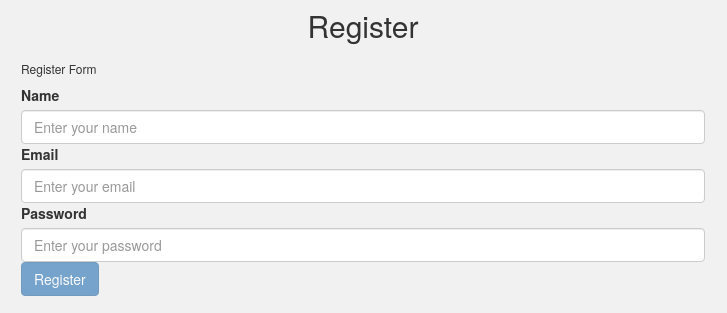
Scenario: enables button when all fields are are entered
The image size is (727, 313).
expect the button "Register" is disabled: met, box top-left (21, 262), bottom-right (99, 296)
Step 1. Type "Prasil Parmar" into the field labelled "Name" → (363, 127), box top-left (21, 110), bottom-right (705, 144)
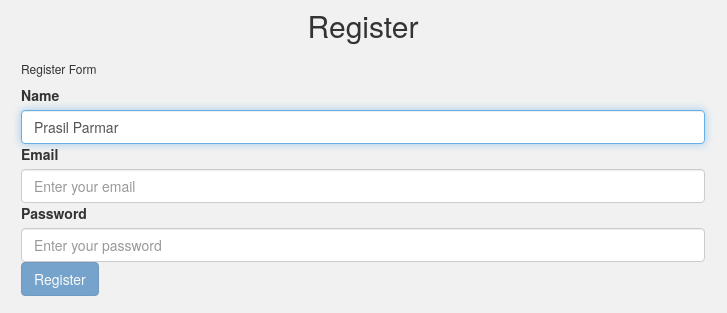
Step 2. Type "prashil117@gmail.com" into the field labelled "Email" → (363, 186), box top-left (21, 169), bottom-right (705, 203)
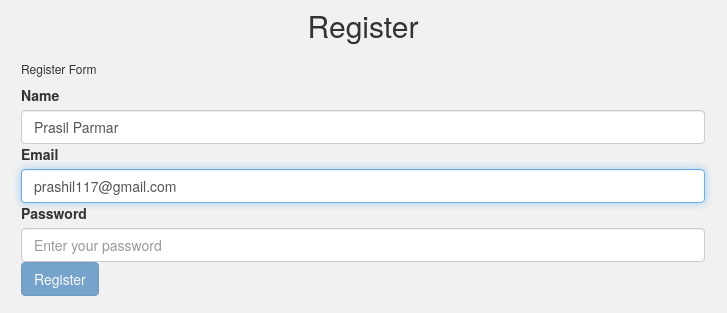
Step 3. Type "Test1234" into the password field labelled "Password" → (363, 245), box top-left (21, 228), bottom-right (705, 262)
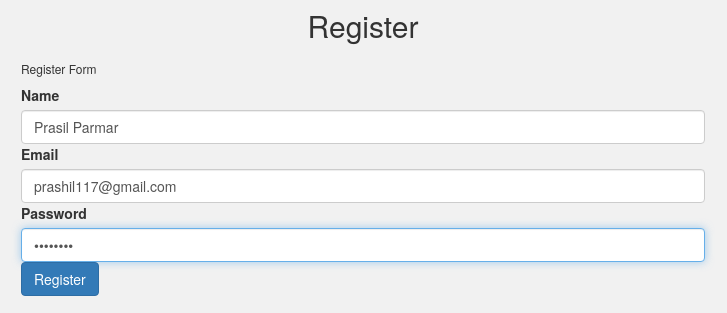
expect the button "Register" is enabled: met, box top-left (21, 262), bottom-right (99, 296)
